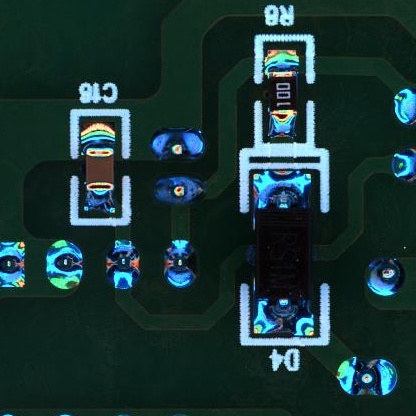spot: (336, 357, 399, 397), (148, 125, 206, 160), (45, 239, 84, 290), (105, 238, 140, 289), (165, 236, 197, 289), (151, 176, 207, 206), (364, 260, 406, 297), (1, 241, 24, 286), (393, 89, 416, 125), (392, 149, 416, 180)
